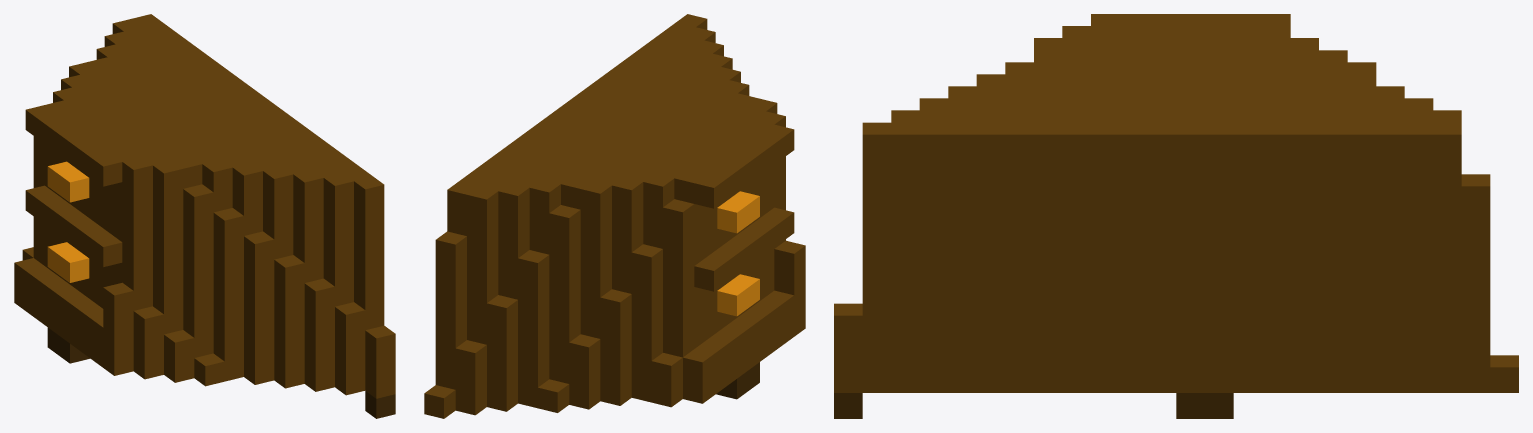
Rendered from Dresser2.obj.
3 renders of one model, left to right at view 1: azimuth 30°, elevation 25°; view 2: azimuth 150°, elevation 25°; view 3: azimuth 270°, elevation 25°, orthographic. The views are drawn at different scales.
Parts seen in each view (by area): view 1: Dresser2; view 2: Dresser2; view 3: Dresser2.
Boxes of the visible parts, bbox=[...] form: Dresser2: bbox=[14, 14, 395, 418]; Dresser2: bbox=[424, 14, 805, 418]; Dresser2: bbox=[834, 14, 1518, 418].
Bounding box in the file's own units: 10 × 11 × 24.
Materials: 1 (1 with a texture image).
